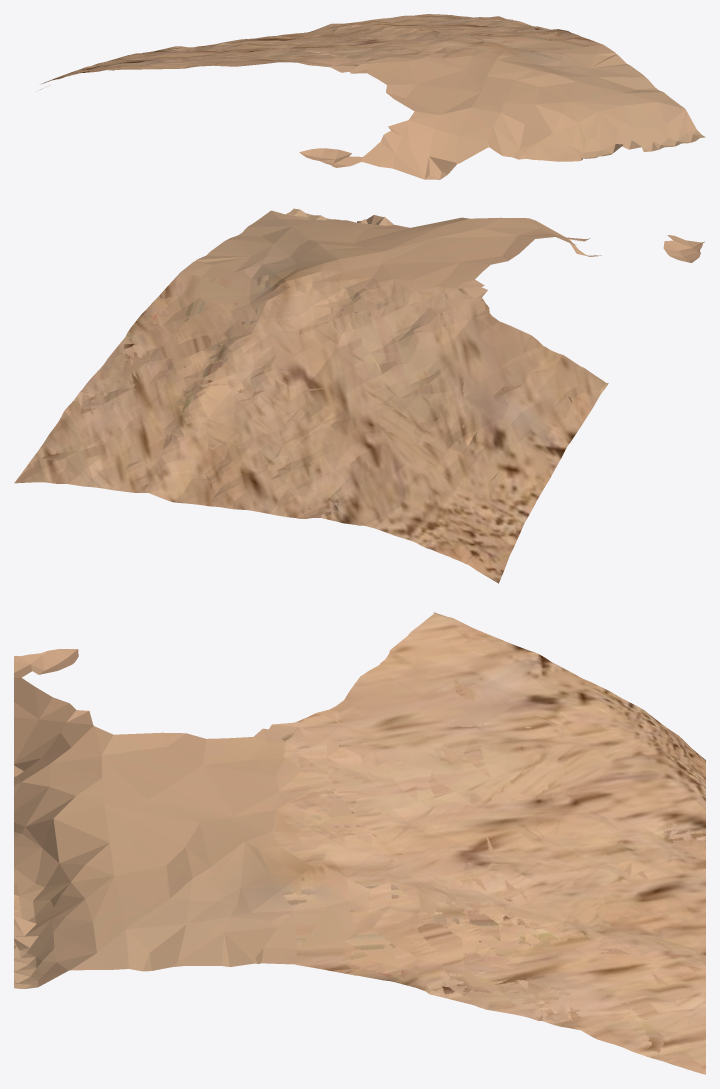
The picture shows the model from 3 angles, top to bottom: view 1: azimuth 30°, elevation 25°; view 2: azimuth 150°, elevation 25°; view 3: azimuth 270°, elevation 25°; orthographic projection. The views are drawn at different scales.
Size of the model in its own units: 1.04 by 0.2835 by 1.04.
2 materials, 2 textured.
